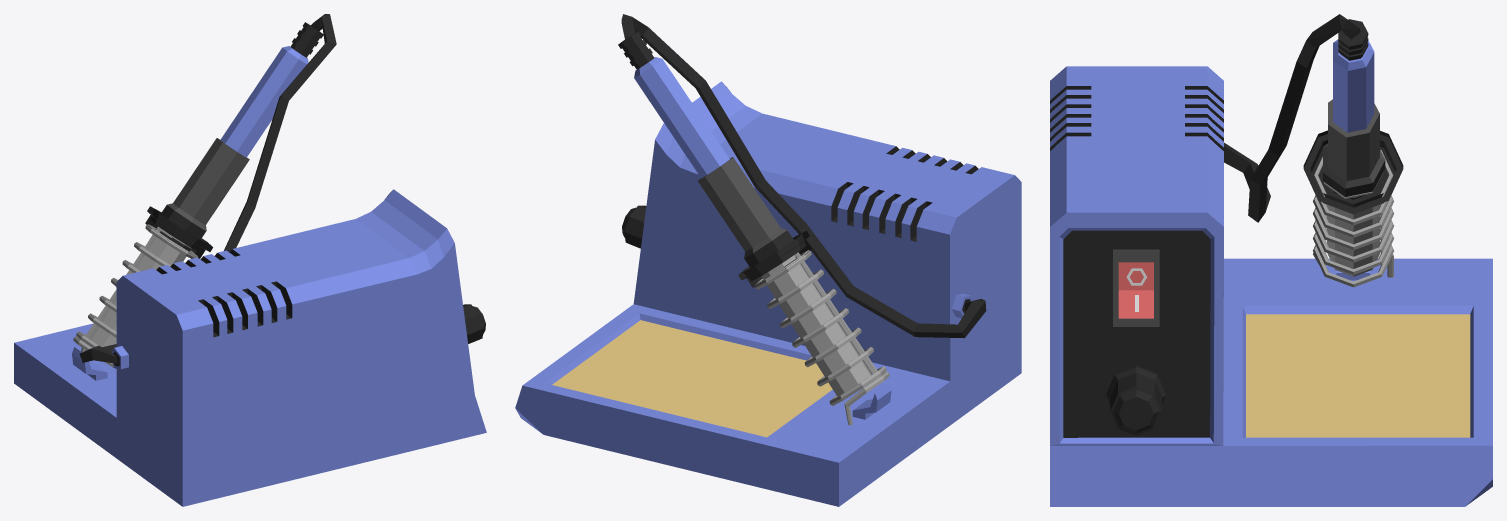
Rendered from soldering_iron_elue.glb.
3 renders of one model, left to right at view 1: azimuth 30°, elevation 25°; view 2: azimuth 150°, elevation 25°; view 3: azimuth 270°, elevation 25°, orthographic. The views are drawn at different scales.
Visible parts, largest first — view 1: Cube; view 2: Cube; view 3: Cube.
Part boxes in pixels (x1,y1,x2,y2): Cube: [14, 14, 486, 506]; Cube: [515, 14, 1021, 506]; Cube: [1050, 14, 1492, 506].
Size of the model in its own units: 2.47 by 2.28 by 2.
